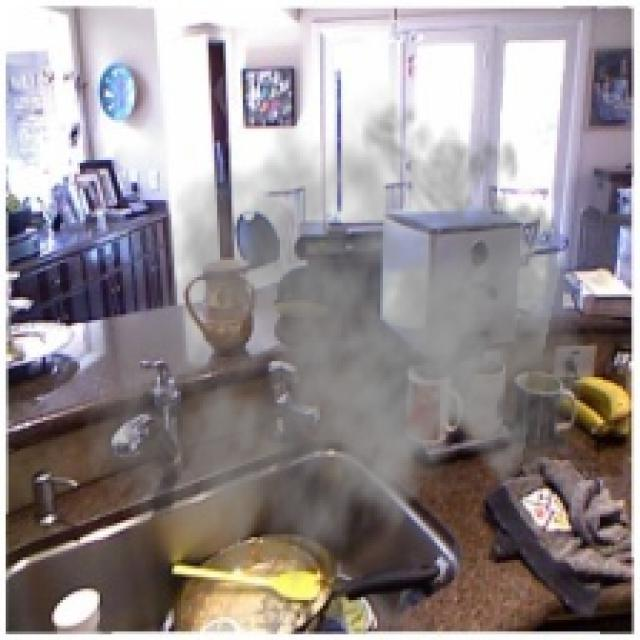smoke: (80, 80, 600, 609)
